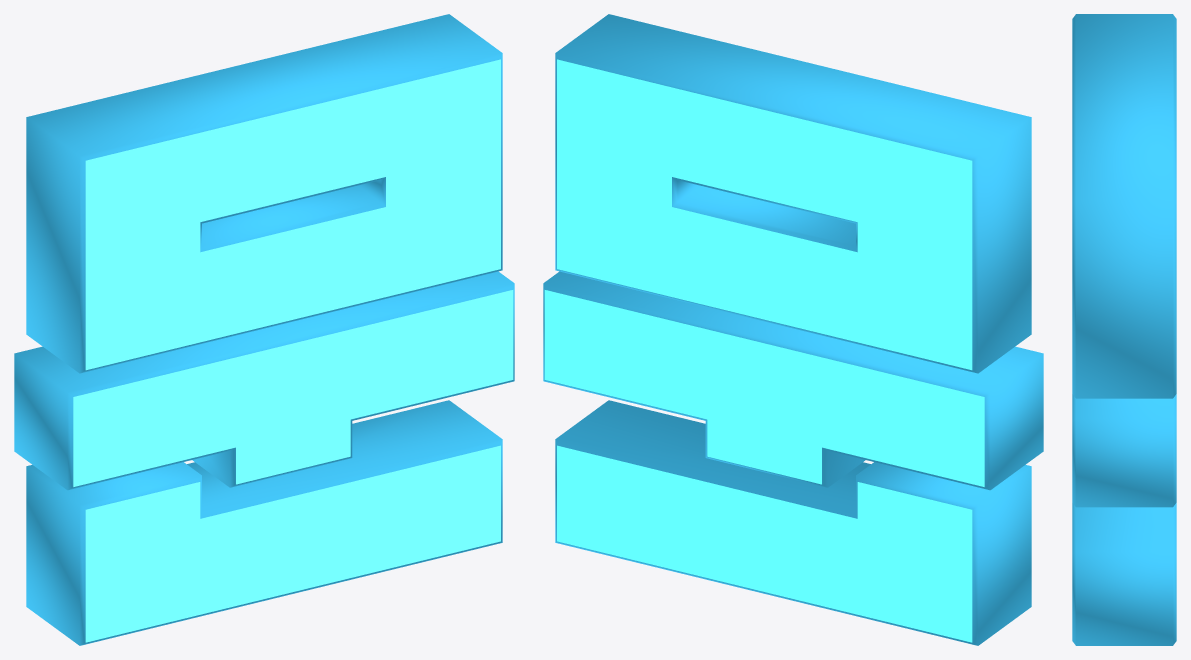
The picture shows the model from 3 angles, left to right: view 1: azimuth 30°, elevation 25°; view 2: azimuth 150°, elevation 25°; view 3: azimuth 270°, elevation 25°; orthographic projection. The views are drawn at different scales.
Parts seen in each view (by area): view 1: glyph; view 2: glyph; view 3: glyph.
Part boxes in pixels (x1,y1,x2,y2): glyph: (14,14,514,645); glyph: (543,14,1043,645); glyph: (1072,14,1176,645).
Bounding box in the file's own units: 0.0726 × 0.076 × 0.0162.
